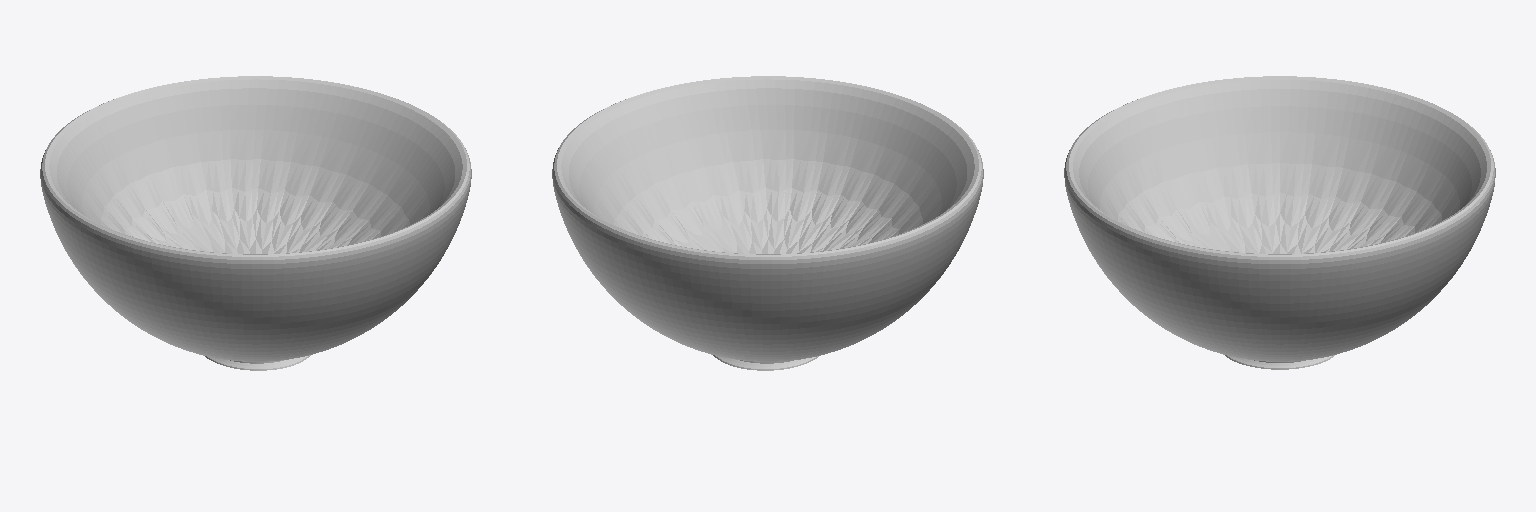
Rendered from bowl.obj.
3 renders of one model, left to right at view 1: azimuth 30°, elevation 25°; view 2: azimuth 150°, elevation 25°; view 3: azimuth 270°, elevation 25°, orthographic.
Visible parts, largest first — view 1: 球体; view 2: 球体; view 3: 球体.
Part boxes in pixels (bbox=[...]): 球体: bbox=[40, 76, 471, 370]; 球体: bbox=[552, 76, 983, 370]; 球体: bbox=[1064, 76, 1495, 369].
Size of the model in its own units: 1.94 by 0.9001 by 1.94.